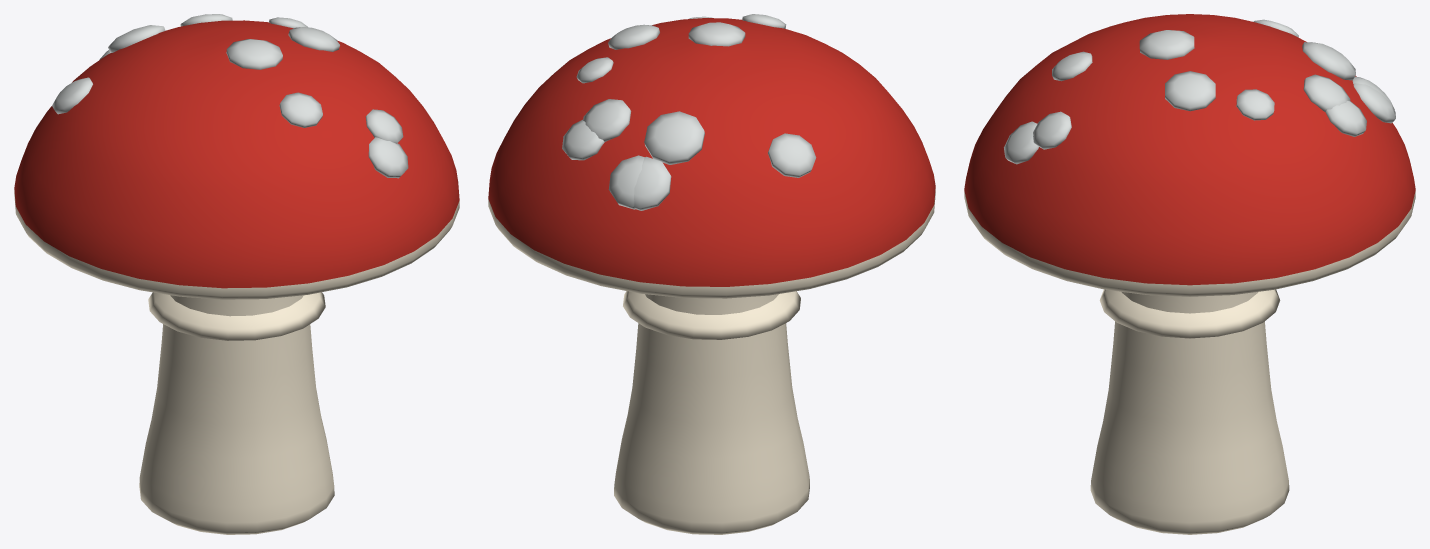
File: sh_toadstool_red.fbx
The picture shows the model from 3 angles, left to right: view 1: azimuth 30°, elevation 25°; view 2: azimuth 150°, elevation 25°; view 3: azimuth 270°, elevation 25°; orthographic projection.
Visible parts, largest first — view 1: SH_Toadstool_Red; view 2: SH_Toadstool_Red; view 3: SH_Toadstool_Red.
Boxes of the visible parts, x1,y1,x2,y2 form: SH_Toadstool_Red: [14, 14, 459, 534]; SH_Toadstool_Red: [488, 14, 935, 534]; SH_Toadstool_Red: [964, 14, 1415, 534].
Bounding box in the file's own units: 16 × 18.23 × 16.
